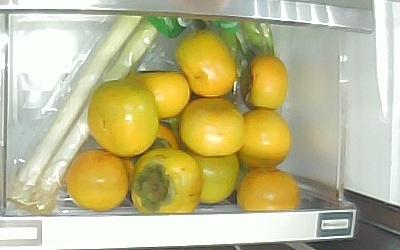persimmon: (88, 80, 160, 157), (129, 149, 202, 212), (176, 30, 237, 96), (179, 97, 245, 156), (66, 150, 129, 211), (123, 122, 179, 188), (237, 107, 291, 170), (126, 70, 191, 118), (241, 54, 289, 111), (238, 168, 299, 210), (193, 151, 237, 204)
